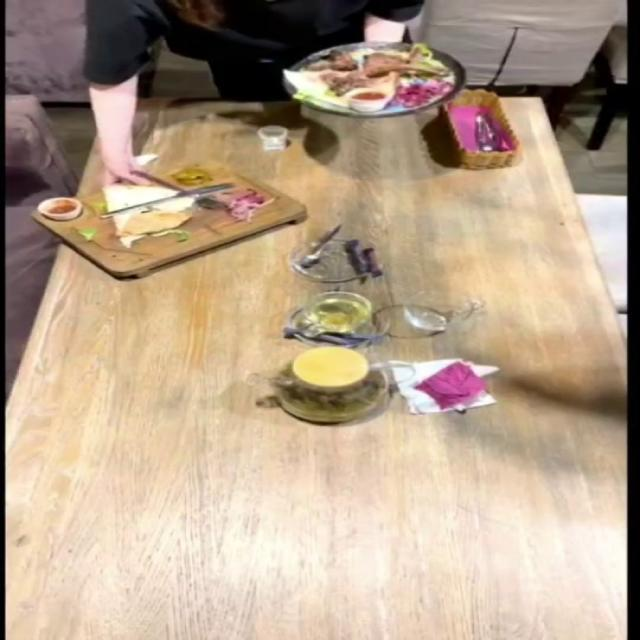meat: (33, 168, 311, 287), (288, 38, 501, 140)
tea: (214, 338, 444, 432)
